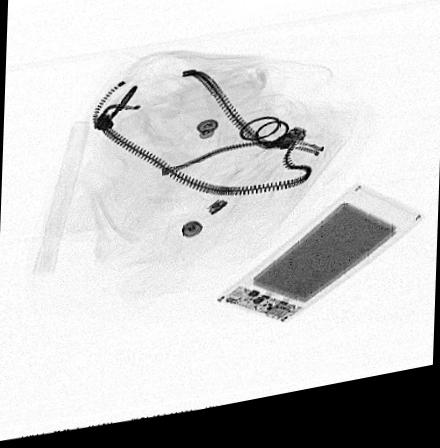Powerbank: (213, 197, 425, 336)
